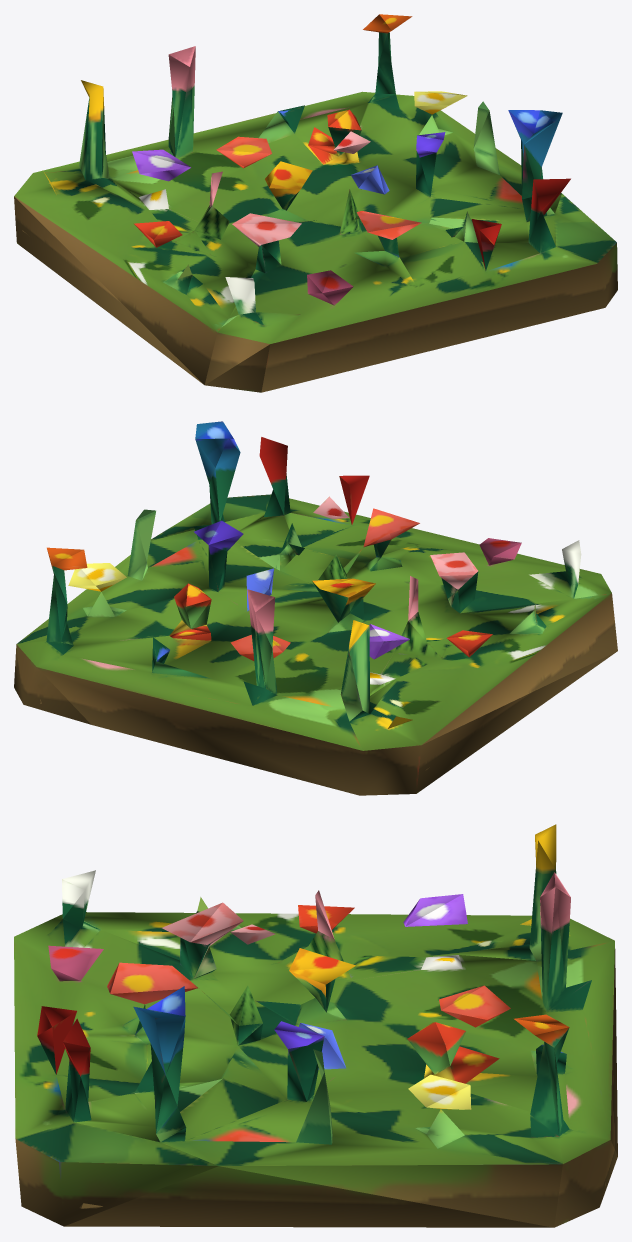
File: wildflower-meadow.glb
The picture shows the model from 3 angles, top to bottom: view 1: azimuth 30°, elevation 25°; view 2: azimuth 150°, elevation 25°; view 3: azimuth 270°, elevation 25°; orthographic projection. The views are drawn at different scales.
Visible parts, largest first — view 1: geometry_0; view 2: geometry_0; view 3: geometry_0.
Part boxes in pixels (x1,y1,x2,y2): geometry_0: [14, 14, 617, 392]; geometry_0: [14, 421, 617, 795]; geometry_0: [14, 824, 617, 1227].
Size of the model in its own units: 0.9854 by 0.3665 by 0.9839.
1 material, 1 textured.
